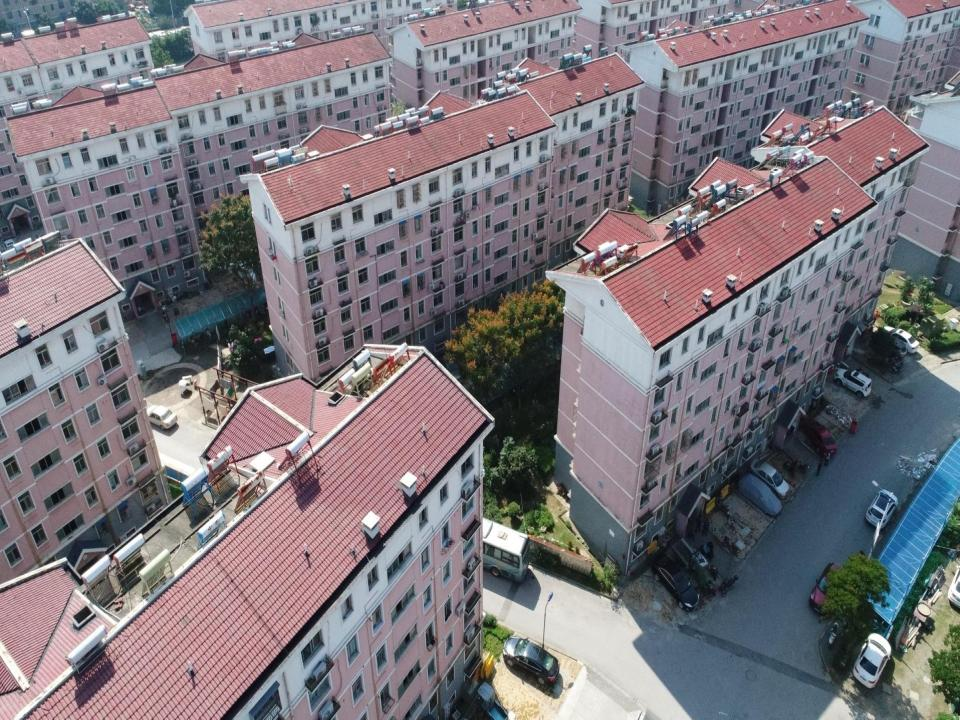bus: (480, 517, 531, 584)
car: (648, 554, 700, 612), (502, 635, 560, 684), (854, 632, 892, 689), (809, 562, 850, 614), (738, 473, 782, 516), (750, 456, 790, 499), (801, 418, 837, 456), (865, 489, 898, 529), (834, 367, 872, 399), (870, 332, 907, 361), (883, 324, 919, 353), (146, 403, 177, 430), (236, 259, 257, 287), (4, 238, 17, 250), (126, 3, 135, 11), (135, 7, 144, 14), (142, 397, 147, 407)
van: (132, 0, 141, 5)
